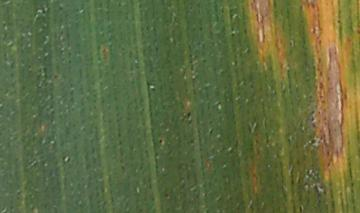tarspot: (186, 112, 192, 119), (159, 140, 161, 143)
